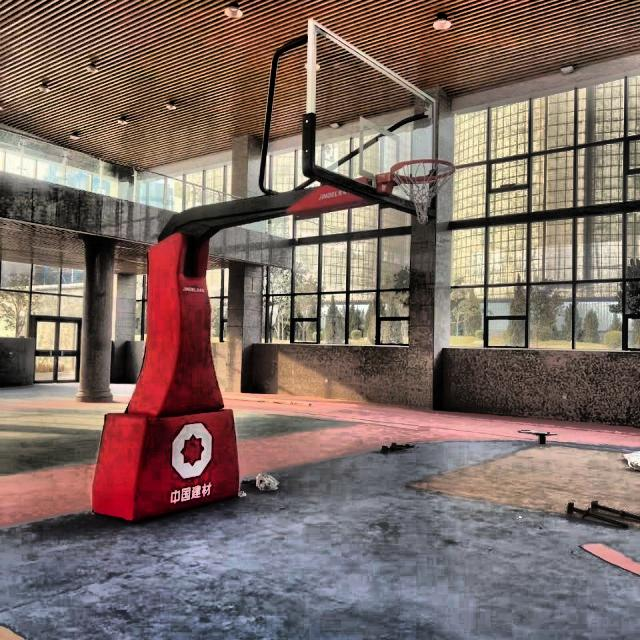rim: (394, 158, 456, 223)
